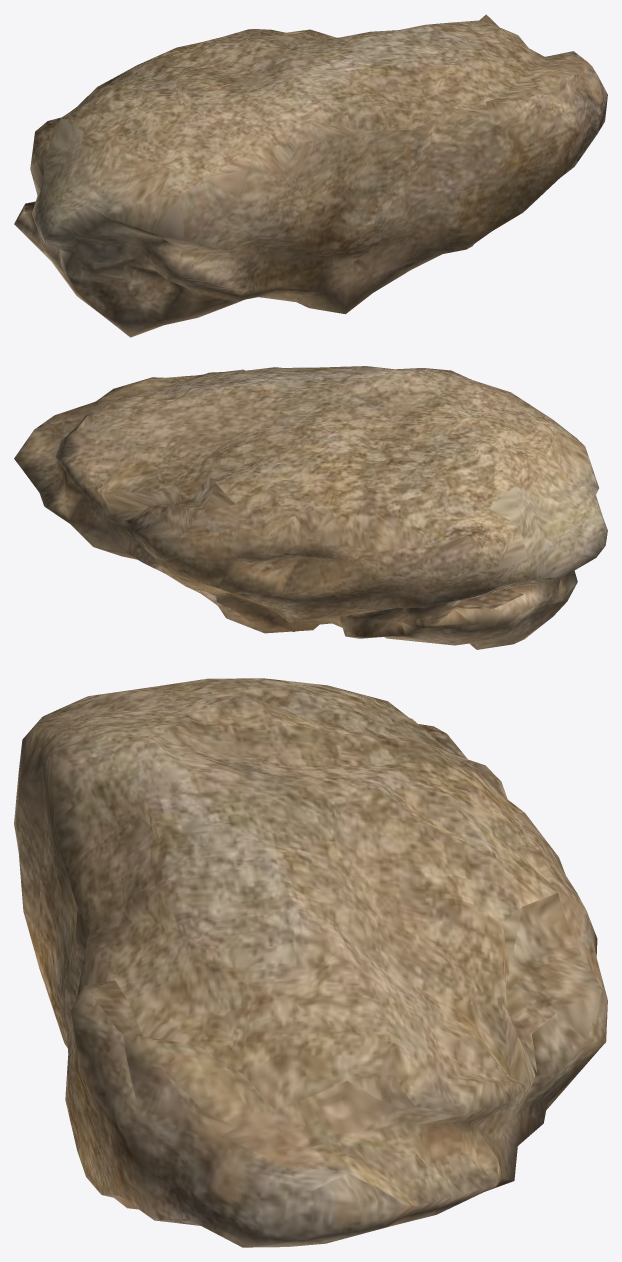
3 views of the same model, one above another, from view 1: azimuth 30°, elevation 25°; view 2: azimuth 150°, elevation 25°; view 3: azimuth 270°, elevation 25° (orthographic). The views are drawn at different scales.
Visible parts, largest first — view 1: namaqualand_boulder_05; view 2: namaqualand_boulder_05; view 3: namaqualand_boulder_05.
Part boxes in pixels (box(x1,y1,x2,y2)): namaqualand_boulder_05: box(14, 14, 607, 337); namaqualand_boulder_05: box(14, 366, 607, 649); namaqualand_boulder_05: box(14, 678, 607, 1247).
Size of the model in its own units: 1.36 by 0.5303 by 0.7407.
1 material, 1 textured.
